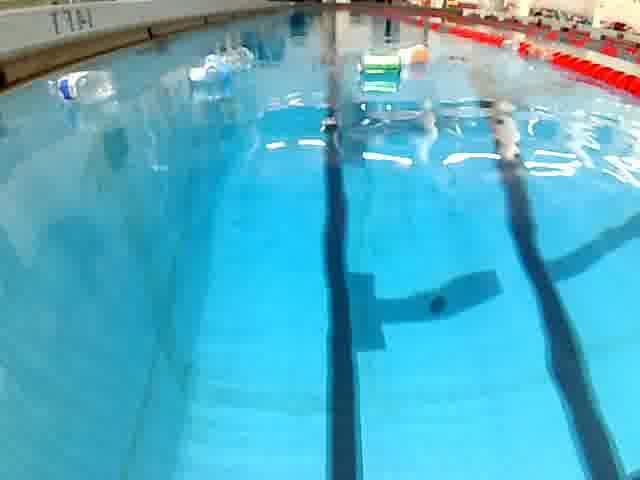Bottle: (42, 66, 122, 107), (182, 43, 259, 85), (395, 43, 435, 64)
Can: (355, 52, 409, 82)
